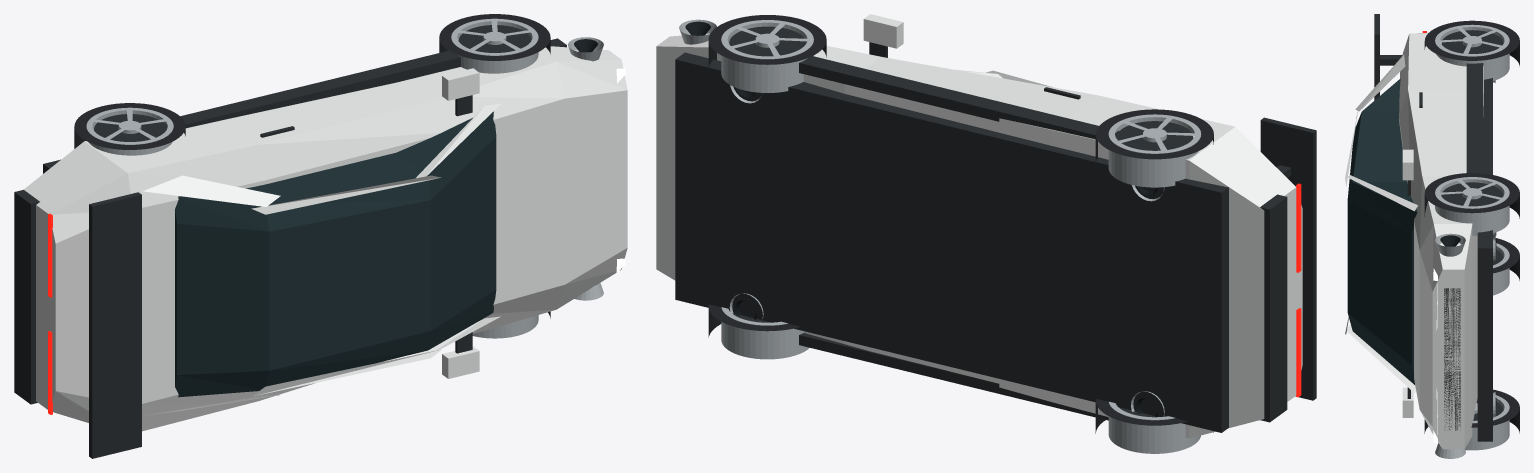
File: roadster.gltf
3 renders of one model, left to right at view 1: azimuth 30°, elevation 25°; view 2: azimuth 150°, elevation 25°; view 3: azimuth 270°, elevation 25°, orthographic. The views are drawn at different scales.
Visible parts, largest first — view 1: Faceted monocoque, Glass canopy, Active rear wing, Sill 1, Rear diffuser, Rear sail 1, Rim 1.4_0.92, Tire -1.4_0.92, Tire 1.4_0.92, Rim -1.4_0.92, White roof rail -1, White roof rail 1 (+6 smaller); view 2: Carbon undertray, Faceted monocoque, Active rear wing, Sill 1, Rear diffuser, Rim 1.4_0.92, Rim -1.4_0.92, Sill -1, Rim -1.4_-0.92, Rim 1.4_-0.92, Tire 1.4_0.92, Tire -1.4_0.92 (+5 smaller); view 3: Faceted monocoque, Glass canopy, Carbon undertray, Sill 1, Rim 1.4_0.92, Front dark intake, Rim -1.4_0.92, Tire 1.4_0.92, Tire -1.4_0.92, Rim 1.4_-0.92, Brake 1.4_0.92, Brake -1.4_0.92 (+15 smaller).
Part boxes in pixels (bbox=[...]): Faceted monocoque: bbox=[24, 46, 627, 431]; Glass canopy: bbox=[175, 111, 496, 397]; Active rear wing: bbox=[89, 192, 141, 458]; Sill 1: bbox=[162, 50, 460, 129]; Rear diffuser: bbox=[14, 189, 39, 404]; Rear sail 1: bbox=[143, 175, 280, 206]; Rim 1.4_0.92: bbox=[451, 18, 538, 73]; Tire -1.4_0.92: bbox=[74, 103, 185, 149]; Tire 1.4_0.92: bbox=[439, 14, 550, 60]; Rim -1.4_0.92: bbox=[86, 107, 173, 155]; White roof rail -1: bbox=[251, 349, 441, 396]; White roof rail 1: bbox=[251, 175, 441, 214]; Carbon undertray: bbox=[675, 52, 1228, 432]; Faceted monocoque: bbox=[656, 33, 1302, 438]; Active rear wing: bbox=[1260, 117, 1316, 400]; Sill 1: bbox=[799, 56, 1118, 139]; Rear diffuser: bbox=[1260, 194, 1287, 422]; Rim 1.4_0.92: bbox=[721, 20, 813, 92]; Rim -1.4_0.92: bbox=[1108, 114, 1201, 187]; Sill -1: bbox=[799, 333, 1108, 420]; Rim -1.4_-0.92: bbox=[1108, 401, 1200, 453]; Rim 1.4_-0.92: bbox=[721, 307, 809, 359]; Tire 1.4_0.92: bbox=[708, 15, 826, 67]; Tire -1.4_0.92: bbox=[1095, 109, 1213, 167]; Faceted monocoque: bbox=[1399, 33, 1483, 449]; Glass canopy: bbox=[1347, 78, 1417, 384]; Carbon undertray: bbox=[1477, 78, 1492, 441]; Sill 1: bbox=[1466, 63, 1483, 173]; Rim 1.4_0.92: bbox=[1435, 177, 1509, 235]; Front dark intake: bbox=[1444, 288, 1460, 430]; Rim -1.4_0.92: bbox=[1435, 24, 1509, 80]; Tire 1.4_0.92: bbox=[1424, 173, 1519, 218]; Tire -1.4_0.92: bbox=[1424, 20, 1519, 66]; Rim 1.4_-0.92: bbox=[1465, 395, 1509, 450]; Brake 1.4_0.92: bbox=[1441, 182, 1503, 206]; Brake -1.4_0.92: bbox=[1441, 30, 1503, 53].
Size of the model in its own units: 4.51 by 2.19 by 1.36.
